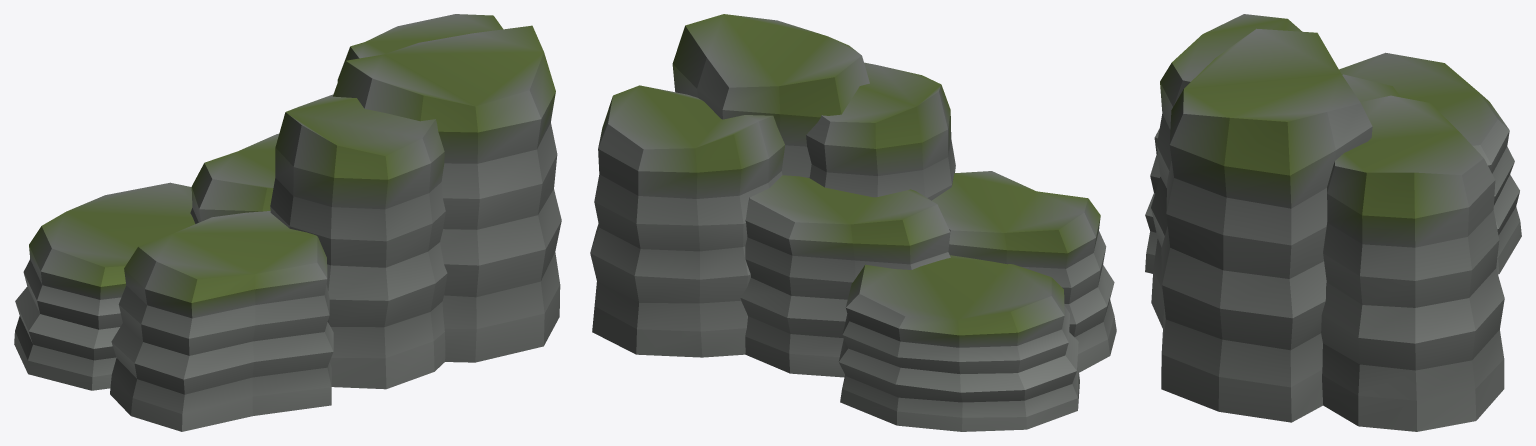
The model's file is Cliff_outcrop.glb.
The picture shows the model from 3 angles, left to right: view 1: azimuth 30°, elevation 25°; view 2: azimuth 150°, elevation 25°; view 3: azimuth 270°, elevation 25°; orthographic projection. The views are drawn at different scales.
Parts seen in each view (by area): view 1: Cliff_outcrop; view 2: Cliff_outcrop; view 3: Cliff_outcrop.
Boxes of the visible parts, x1,y1,x2,y2 form: Cliff_outcrop: (14,14,561,431); Cliff_outcrop: (590,14,1116,431); Cliff_outcrop: (1145,14,1521,431).
Bounding box in the file's own units: 10.04 × 5.15 × 6.02.
